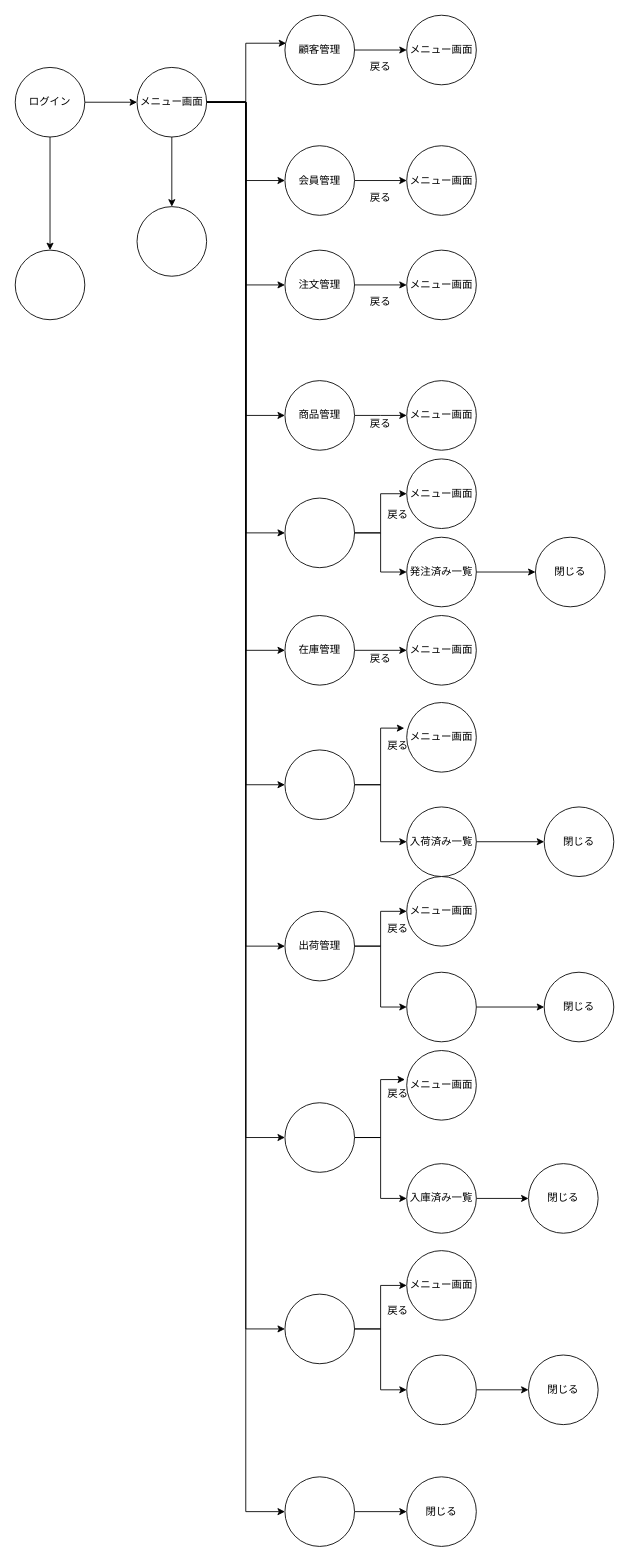
The diagram is 629 pixels wide and 1562 high, and some of its shapes have lost their labels. The shapes that lost their labels are listed below. From the top down, each one's centre as x and y in pixels, then its label:
At (171,241): "終了".
At (49,284): "キャンセル".
At (319,532): "発注管理".
At (319,784): "入荷管理".
At (441,1006): "出荷済み一覧".
At (319,1137): "入庫確認".
At (319,1328): "出庫確認".
At (441,1389): "出庫済み一覧".
At (319,1511): "売上確認".
